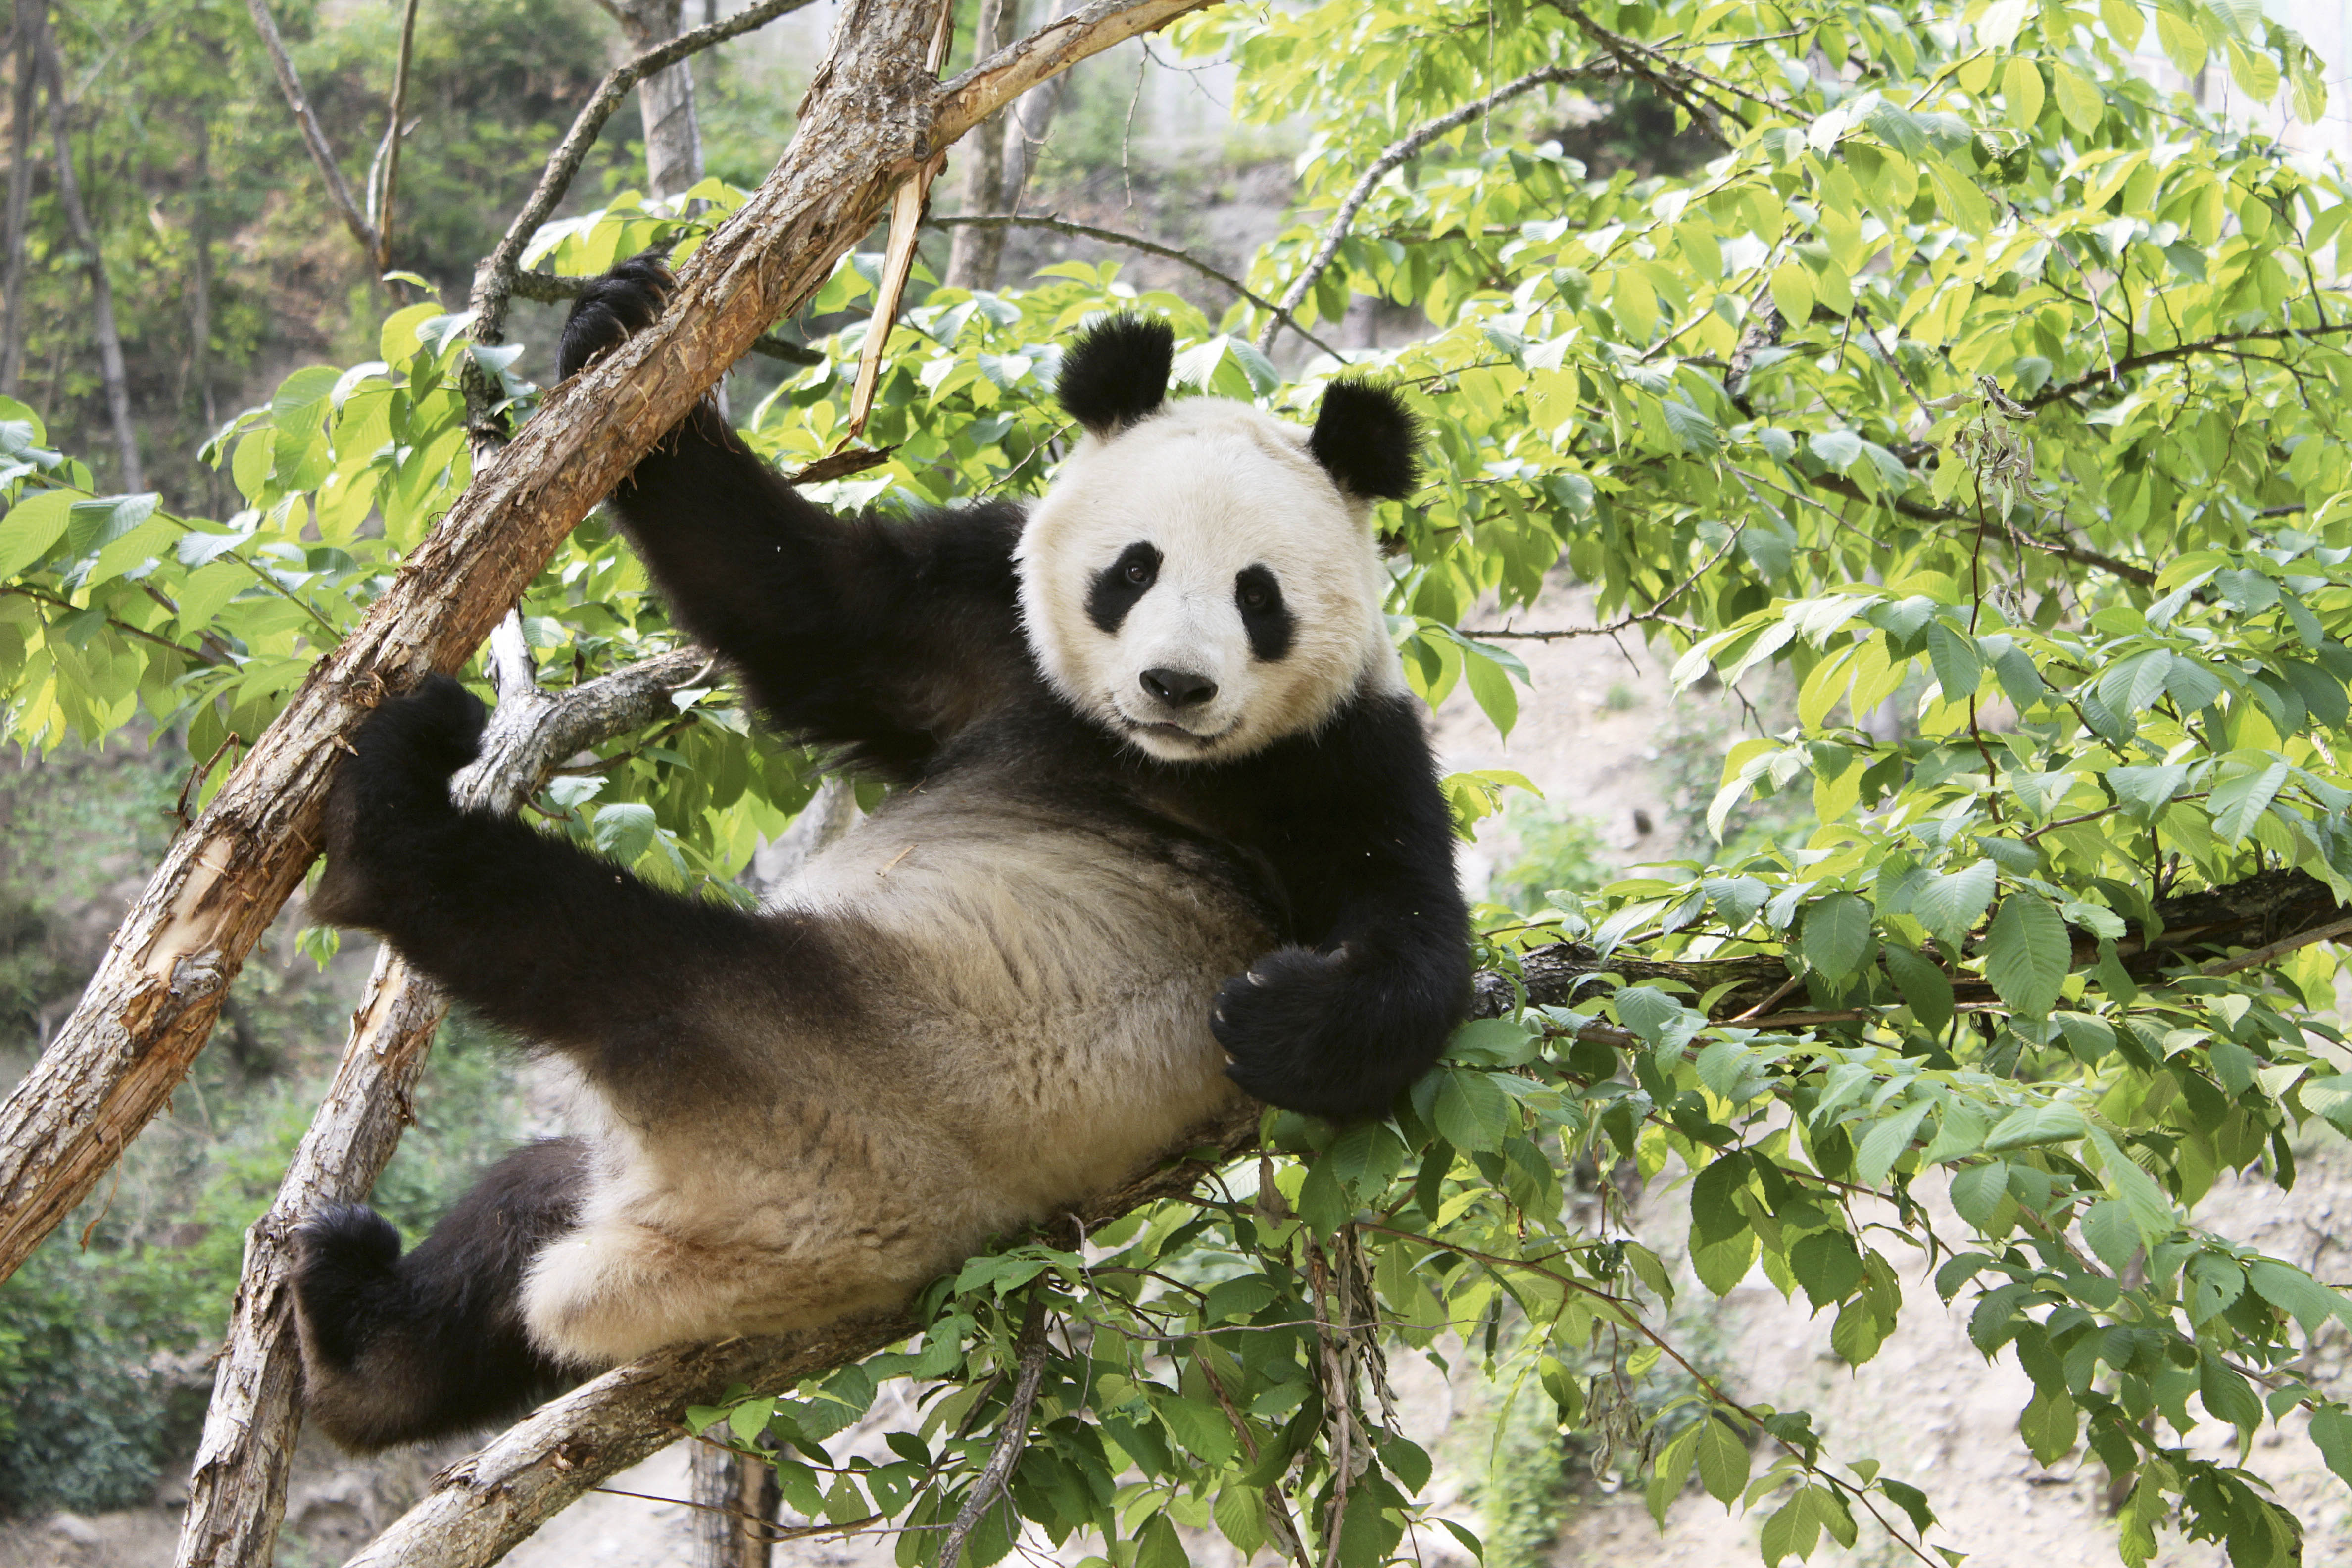panda: (266, 196, 1405, 1388)
